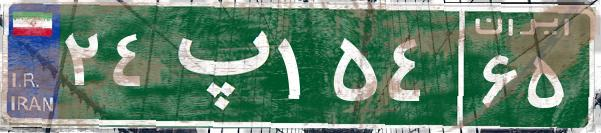1: (273, 28, 330, 110)
2: (57, 26, 110, 107)
4: (385, 28, 445, 110), (110, 28, 158, 105)
5: (330, 28, 385, 110), (525, 38, 570, 115)
6: (475, 38, 525, 113)
پ: (158, 15, 273, 115)
